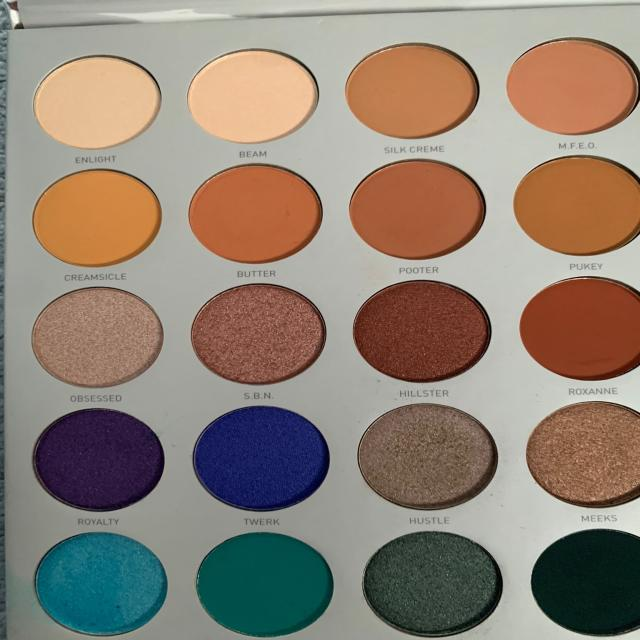bronzer: (19, 149, 640, 275), (340, 29, 640, 144)
eye shade: (15, 272, 640, 640)
highlighter: (34, 272, 332, 398)
powder: (30, 40, 328, 154)
